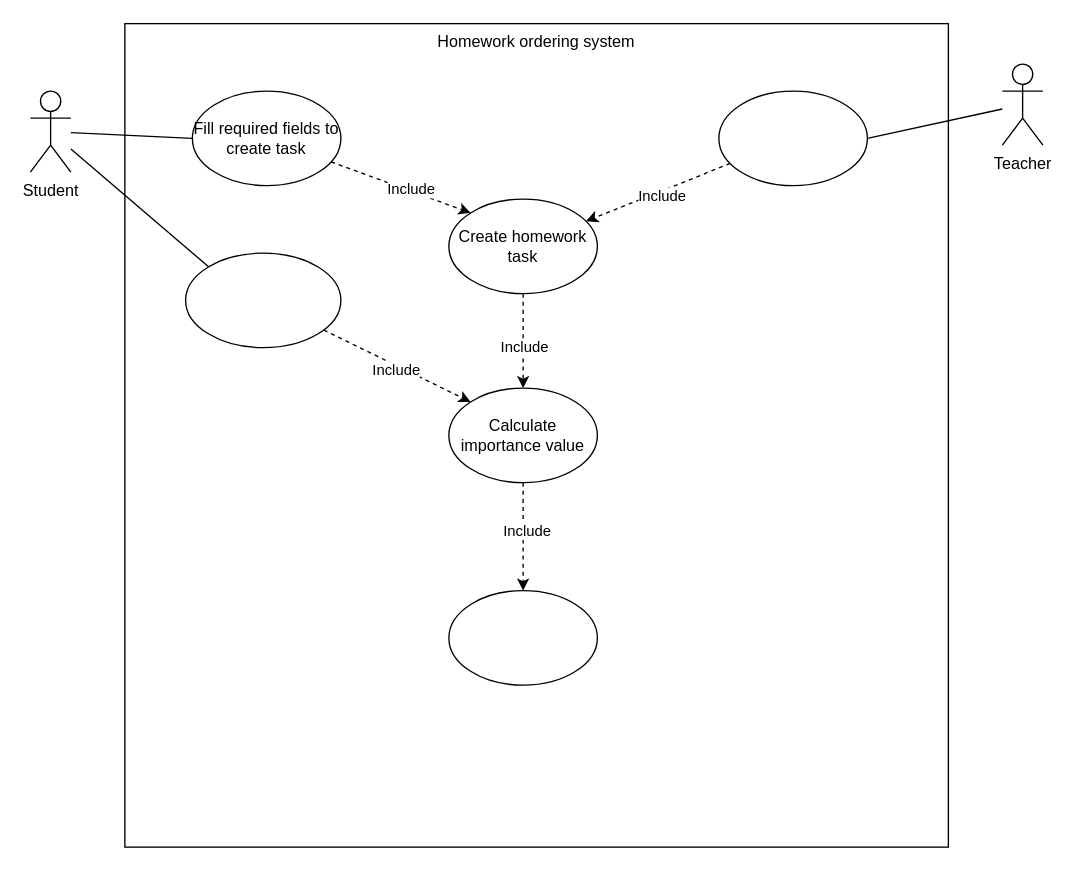
Image size: 1075x871. Some labels were removed from this diagram. Each missing label, with the box of its shape:
Add due work: (718, 90, 867, 186)
Change importance variable weighting: (184, 252, 341, 348)
Recalculate order of tasks: (448, 589, 597, 685)
